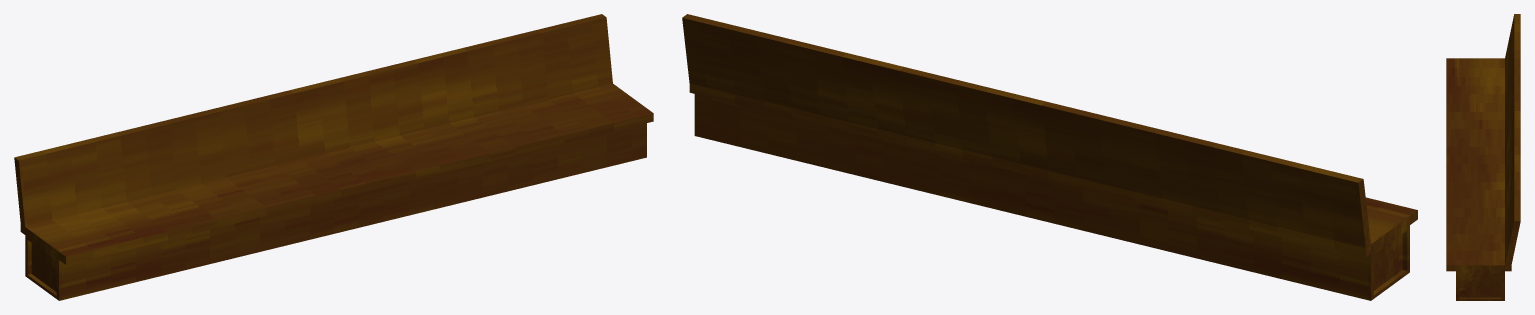
File: pew.glb
3 views of the same model, side by side, from view 1: azimuth 30°, elevation 25°; view 2: azimuth 150°, elevation 25°; view 3: azimuth 270°, elevation 25° (orthographic). The views are drawn at different scales.
Parts seen in each view (by area): view 1: Cube; view 2: Cube; view 3: Cube.
Boxes of the visible parts, x1,y1,x2,y2 form: Cube: (14,14,653,300); Cube: (682,14,1417,300); Cube: (1446,14,1520,300).
Size of the model in its own units: 15 by 2.7 by 2.28.
Materials: 1 (1 with a texture image).
